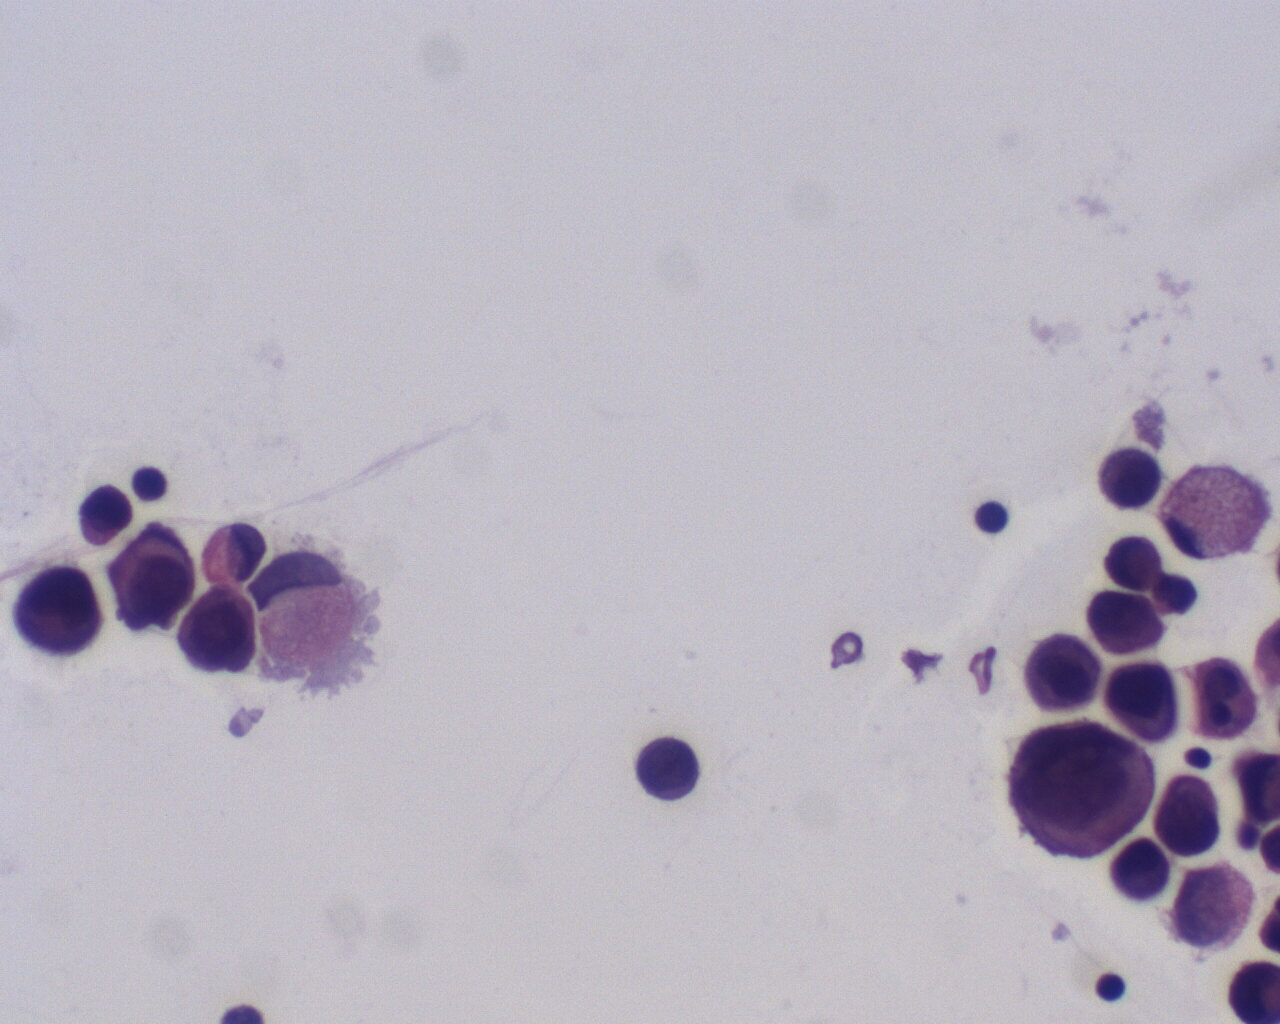ab: (1004, 715, 1161, 872), (106, 518, 200, 644), (168, 576, 275, 679), (2, 559, 111, 658), (1017, 632, 1108, 719), (1147, 764, 1225, 864), (1102, 657, 1185, 740), (1084, 583, 1170, 661), (634, 735, 706, 808), (1096, 439, 1166, 513), (73, 481, 132, 549)
histo: (1158, 459, 1273, 562)
lymph: (1090, 965, 1132, 1011), (969, 494, 1013, 536)
